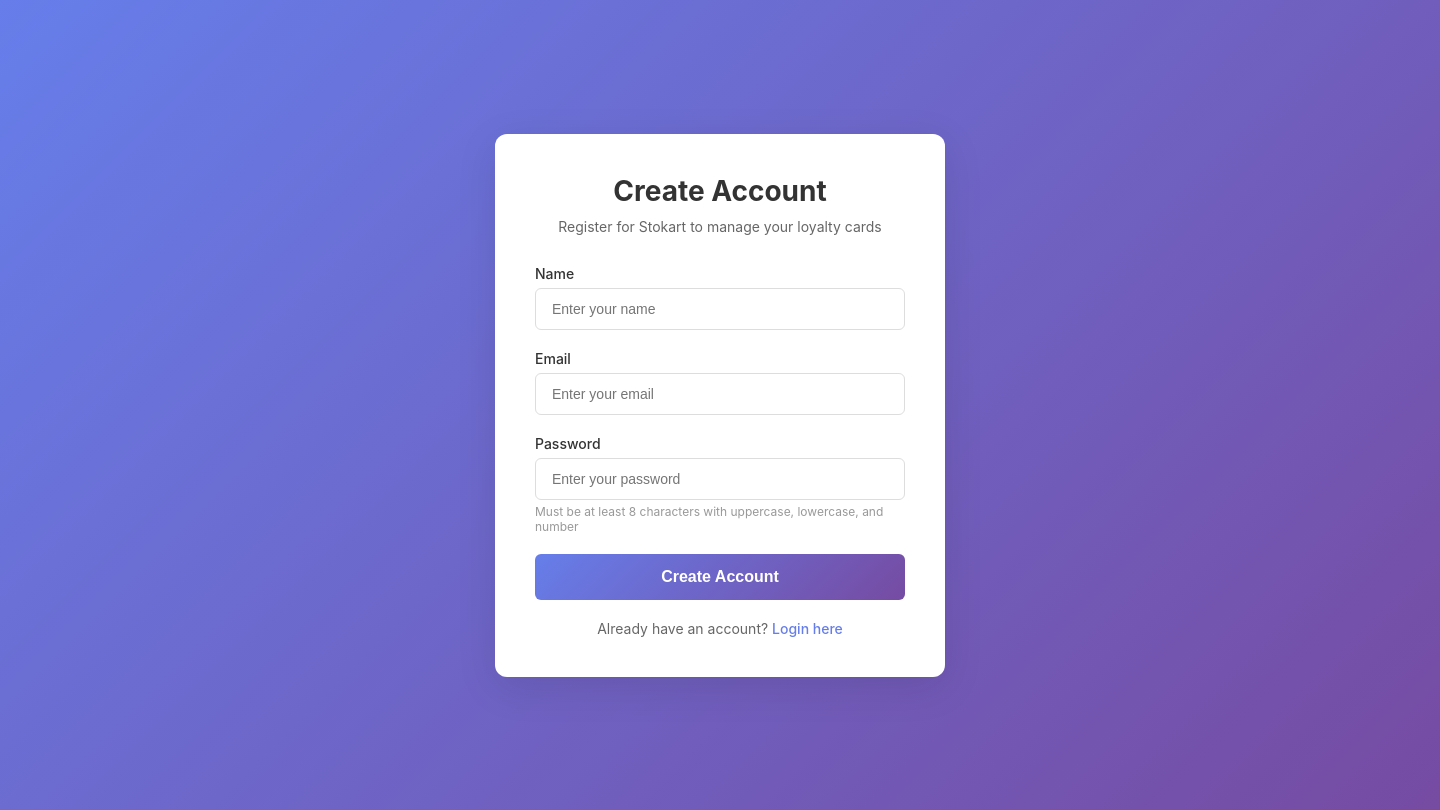
Test: RegisterView › Form Validation › should show error for invalid email format
Type "invalid-email" into the field with id "email" at (720, 394), box [535, 372, 905, 414]
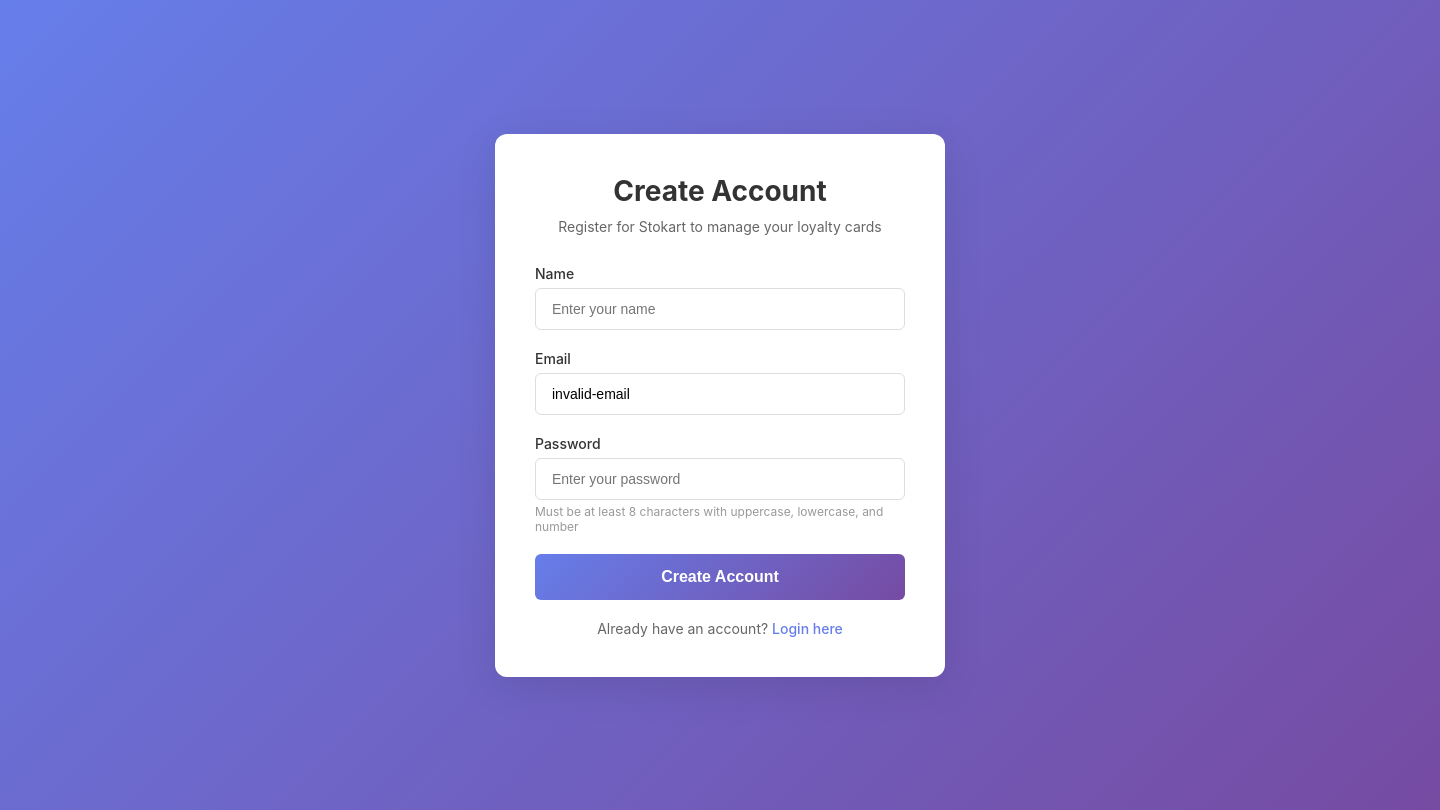
Leave the field with id "email", box [535, 372, 905, 414]
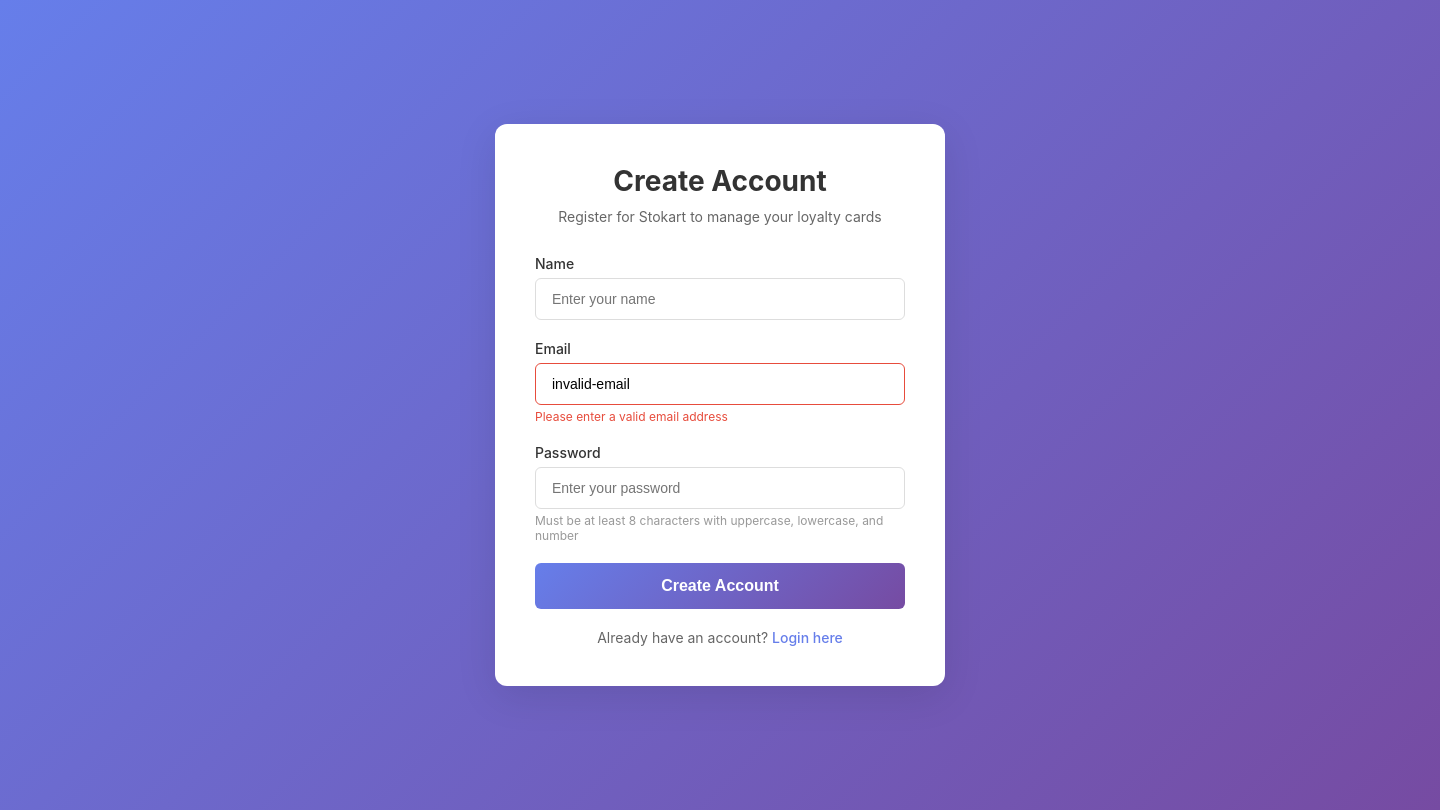
Now the text "Please enter a valid email address" is shown, box [535, 409, 728, 424]
